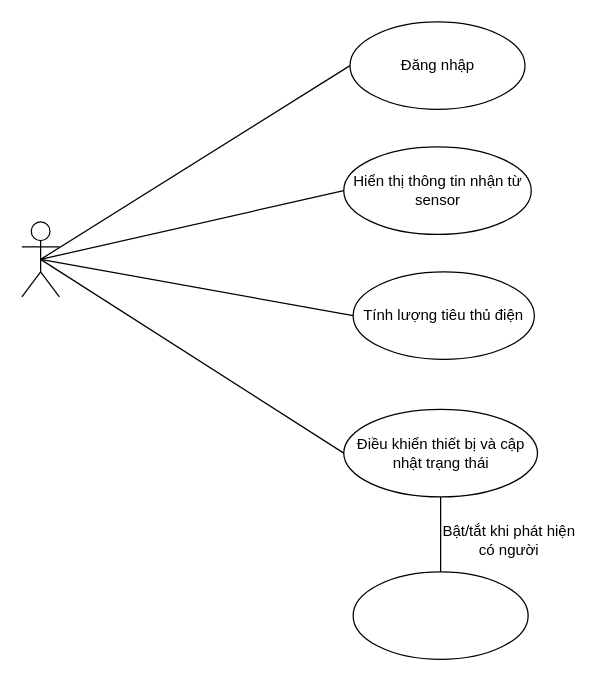
The diagram is 606 pixels wide and 681 high, and some of its shapes have lost their labels. Here are the shapes that lost their labels. From the top down, the centre of each, then its label:
At point (40, 259): "User".
At point (440, 615): "Nhận diện người".
